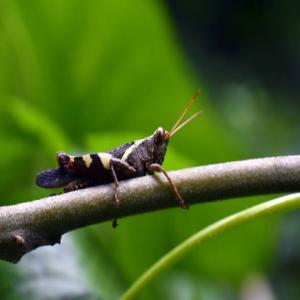locust: (35, 84, 210, 211)
